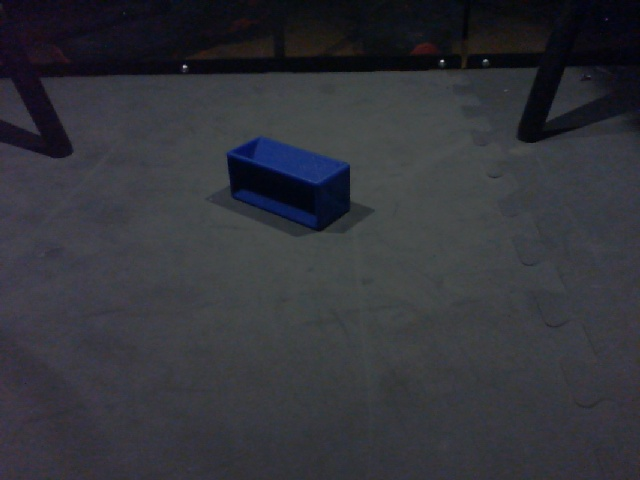BlueSample: (220, 135, 355, 236)
